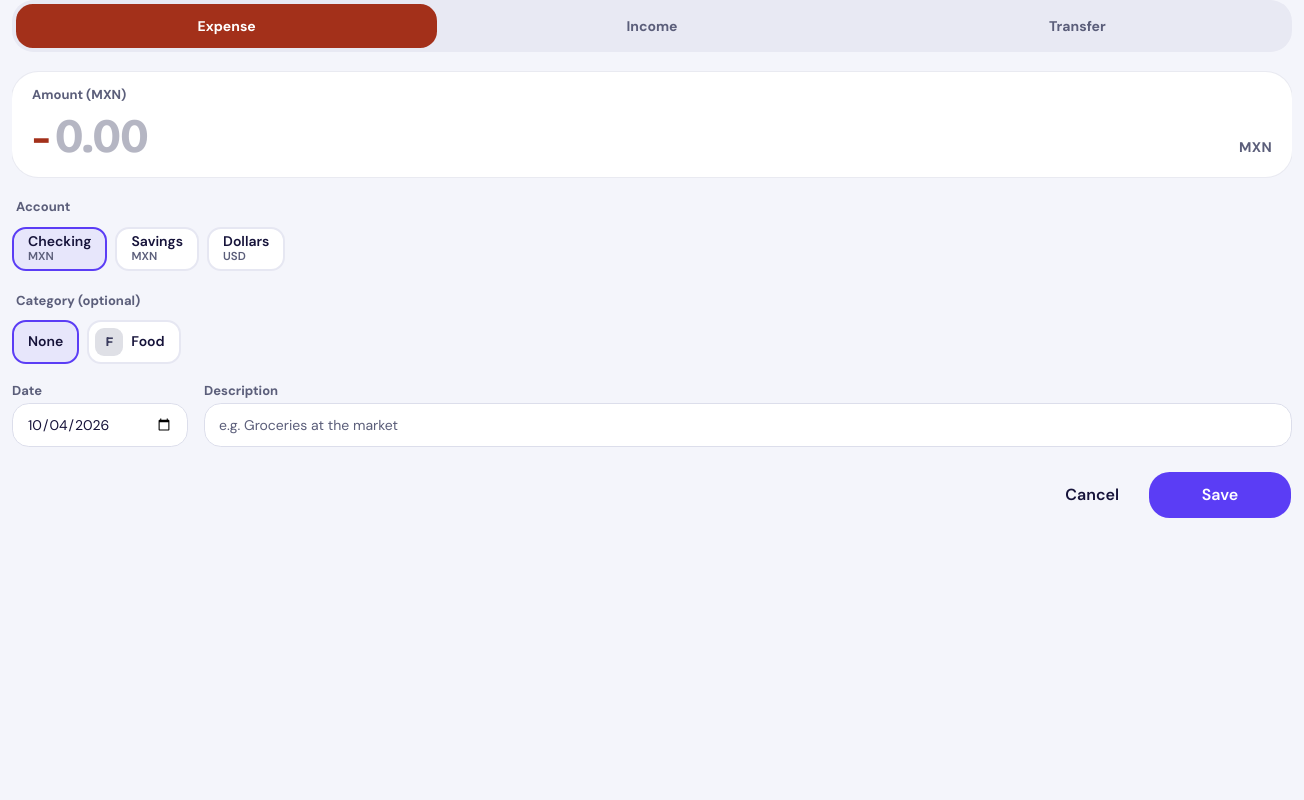
Test: TransactionForm › asks for the received amount only for cross-currency transfers
Click the radio button labelled "Transfer" at (1077, 26), box [867,4,1288,48]
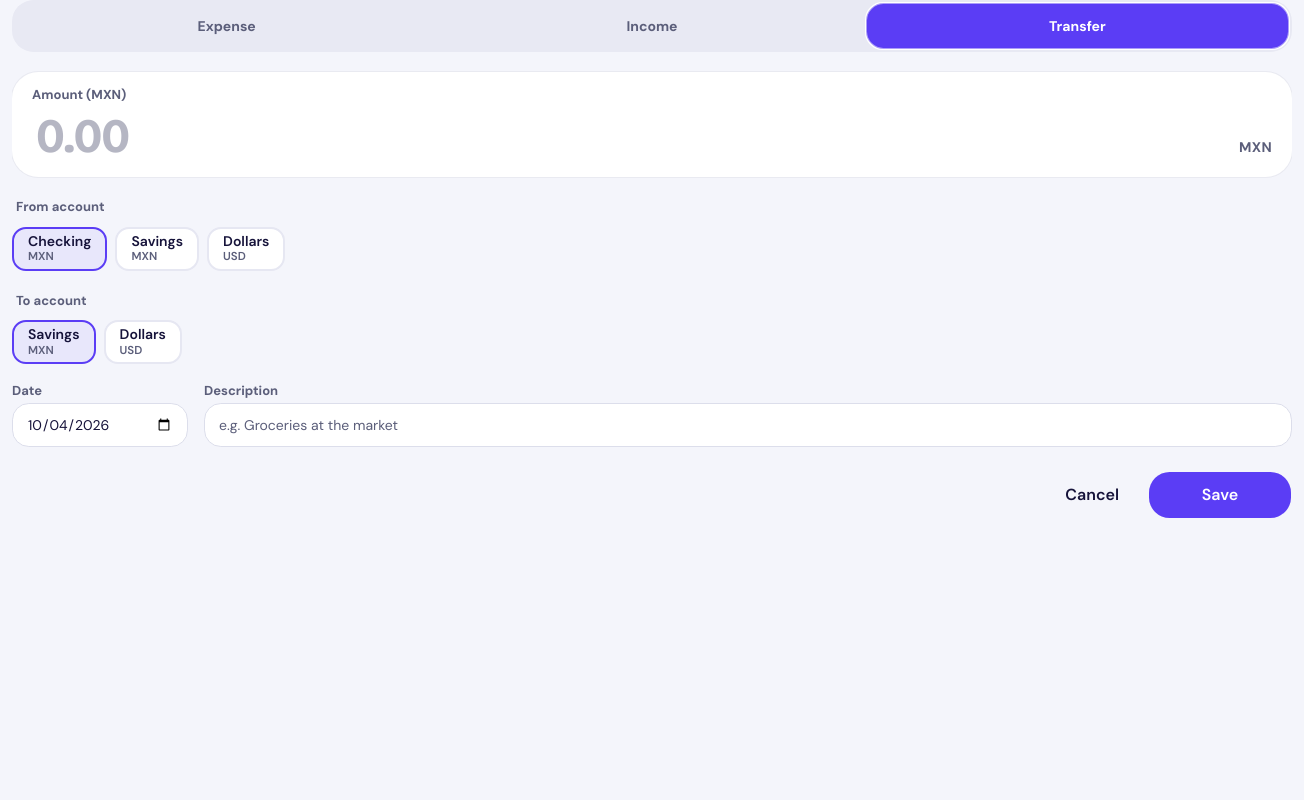
Expected: the field labelled "Amount received" is not shown
Result: the text "Category" is gone
Result: the radio button labelled "Savings MXN" below "To account" is checked at [12,320,96,364]
Click the radio button labelled "Dollars USD" below "To account" at (143, 342), box [104,320,182,364]
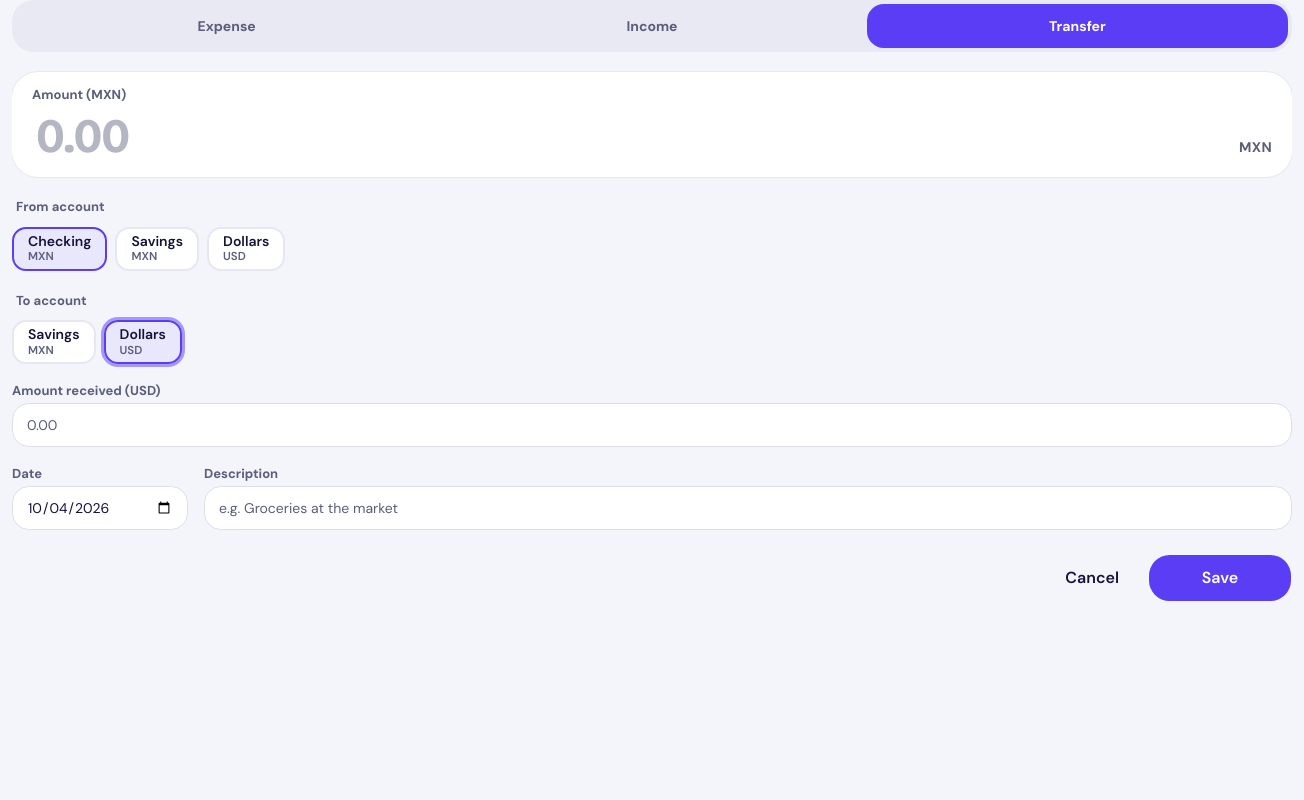
Result: the field labelled "Amount received (USD)" is shown at [12,403,1292,447]
// Picking the destination as the source moves the destination along.
Click the radio button labelled "Dollars USD" in the row of "Checking" at (246, 248), box [207,226,285,270]
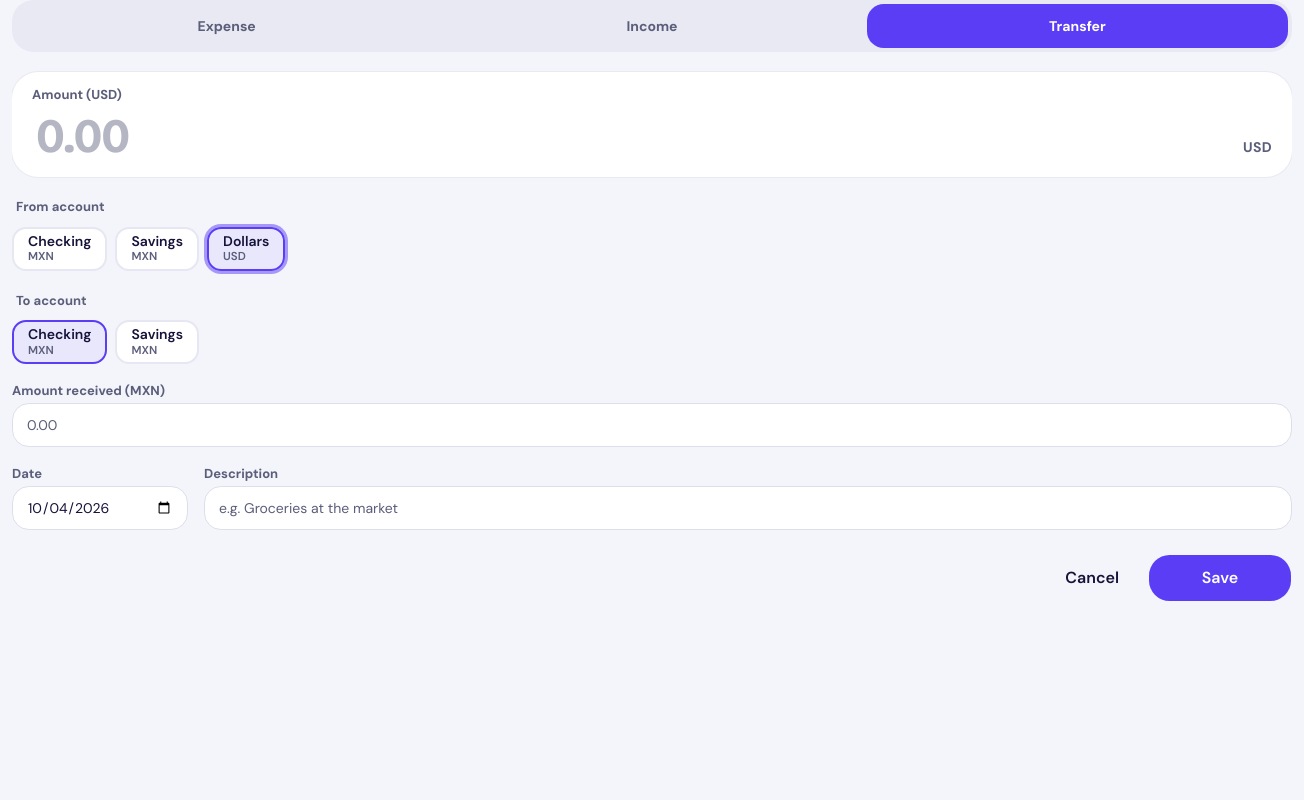
Result: the radio button labelled "Checking MXN" below "To account" is checked at [12,320,108,364]
